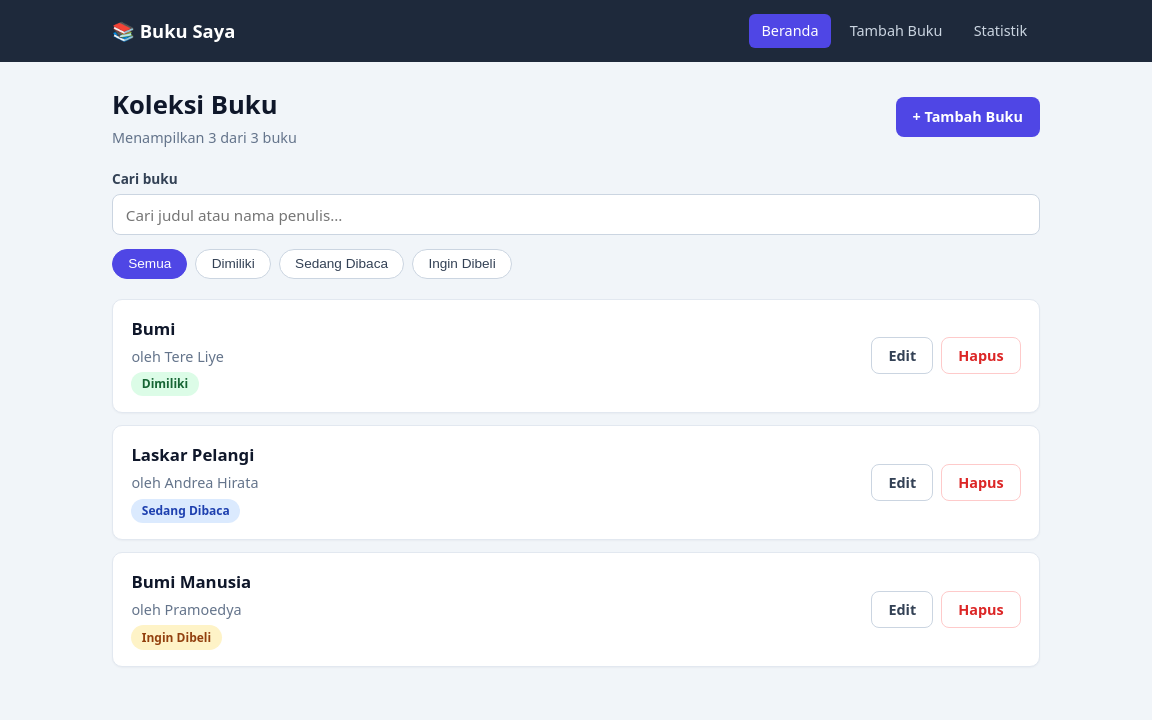
Scenario: Aplikasi manajemen buku (integrasi) › menampilkan statistik di halaman Statistik via navigasi
Click the link "Statistik": x=1000, y=30 [974, 21, 1027, 40]
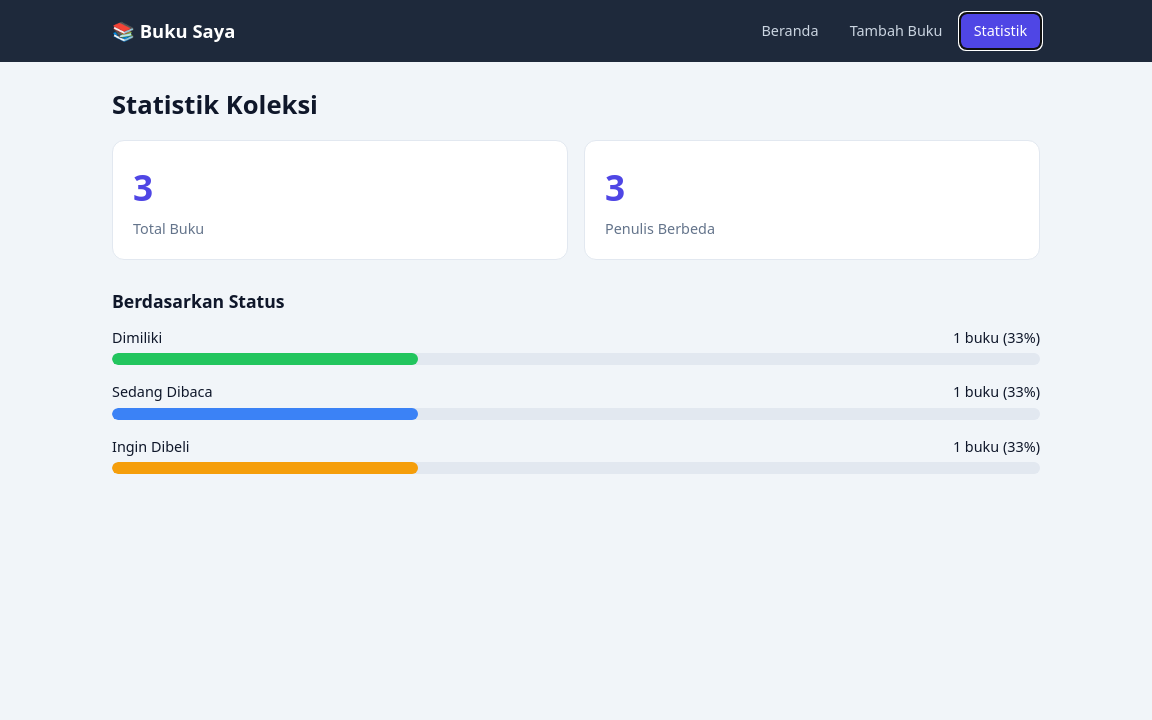
expect the text with test id "stat-total" reads "3": met, box [133, 163, 153, 211]
expect the text with test id "stat-authors" reads "3": met, box [605, 163, 625, 211]
